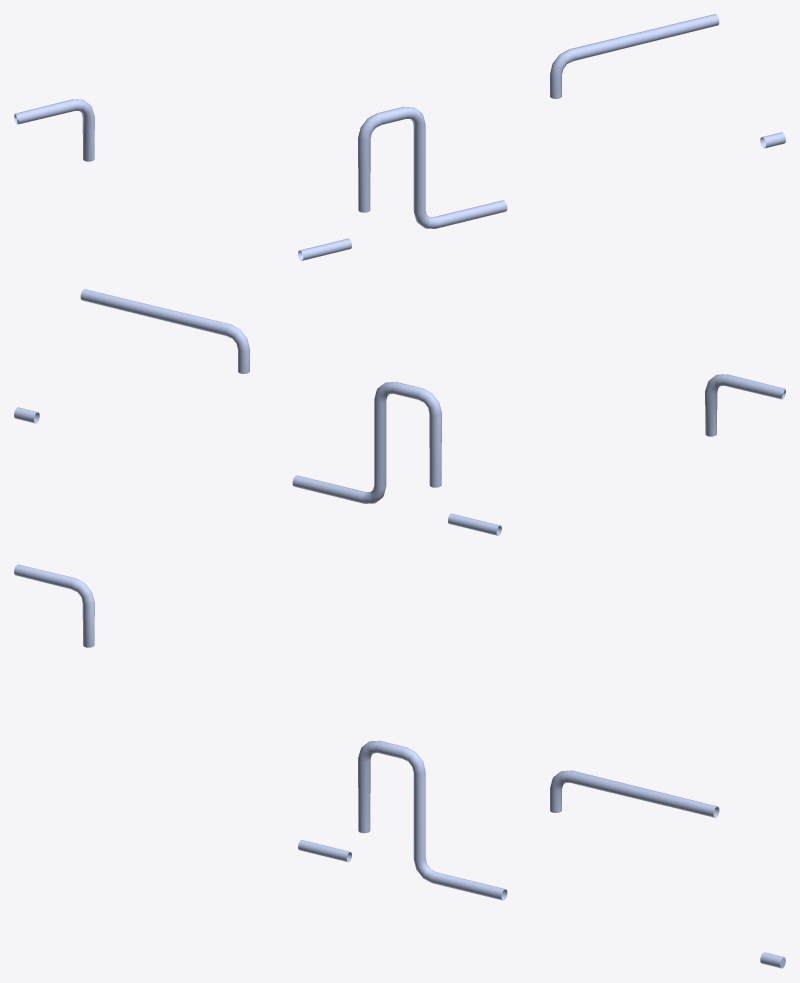
File: NeoEco_PipeWater.glb
The picture shows the model from 3 angles, top to bottom: view 1: azimuth 30°, elevation 25°; view 2: azimuth 150°, elevation 25°; view 3: azimuth 330°, elevation 25°; orthographic projection.
Visible parts, largest first — view 1: pipe_003; view 2: pipe_003; view 3: pipe_003.
Part boxes in pixels (x1=…): pipe_003: x1=14, y1=14, x2=785, y2=260; pipe_003: x1=14, y1=289, x2=785, y2=535; pipe_003: x1=14, y1=564, x2=785, y2=968.
Size of the model in its own units: 10.15 by 2.74 by 0.1443.
